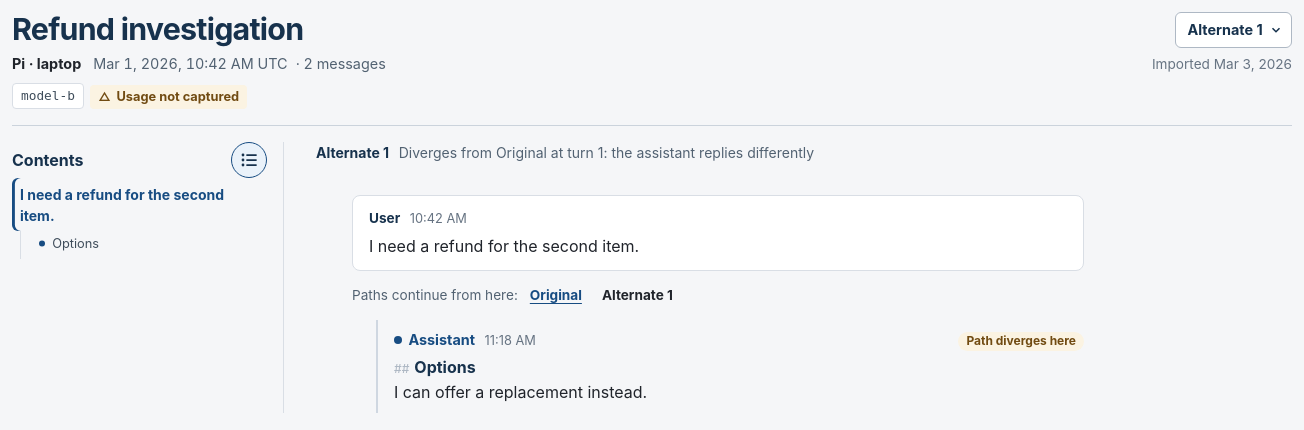
conversation reader › switches paths from the fork point
The width and height of the screenshot is (1304, 430).
Click the button "Original": click(556, 295) [522,277,590,313]
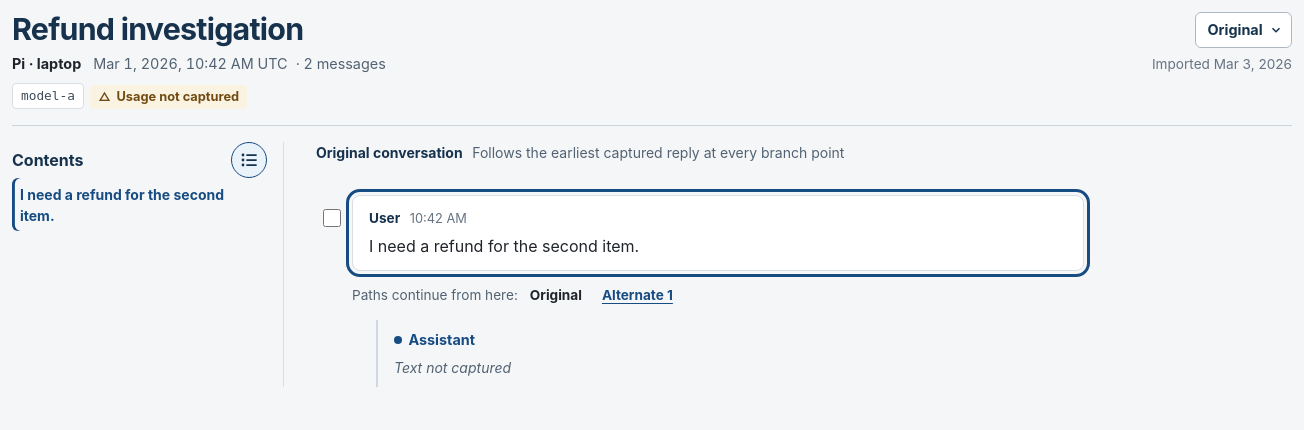
Expected: the button named "Path Original" is shown, [1195,12,1292,48]
Expected: the text "Text not captured" is shown, [394,358,511,376]
